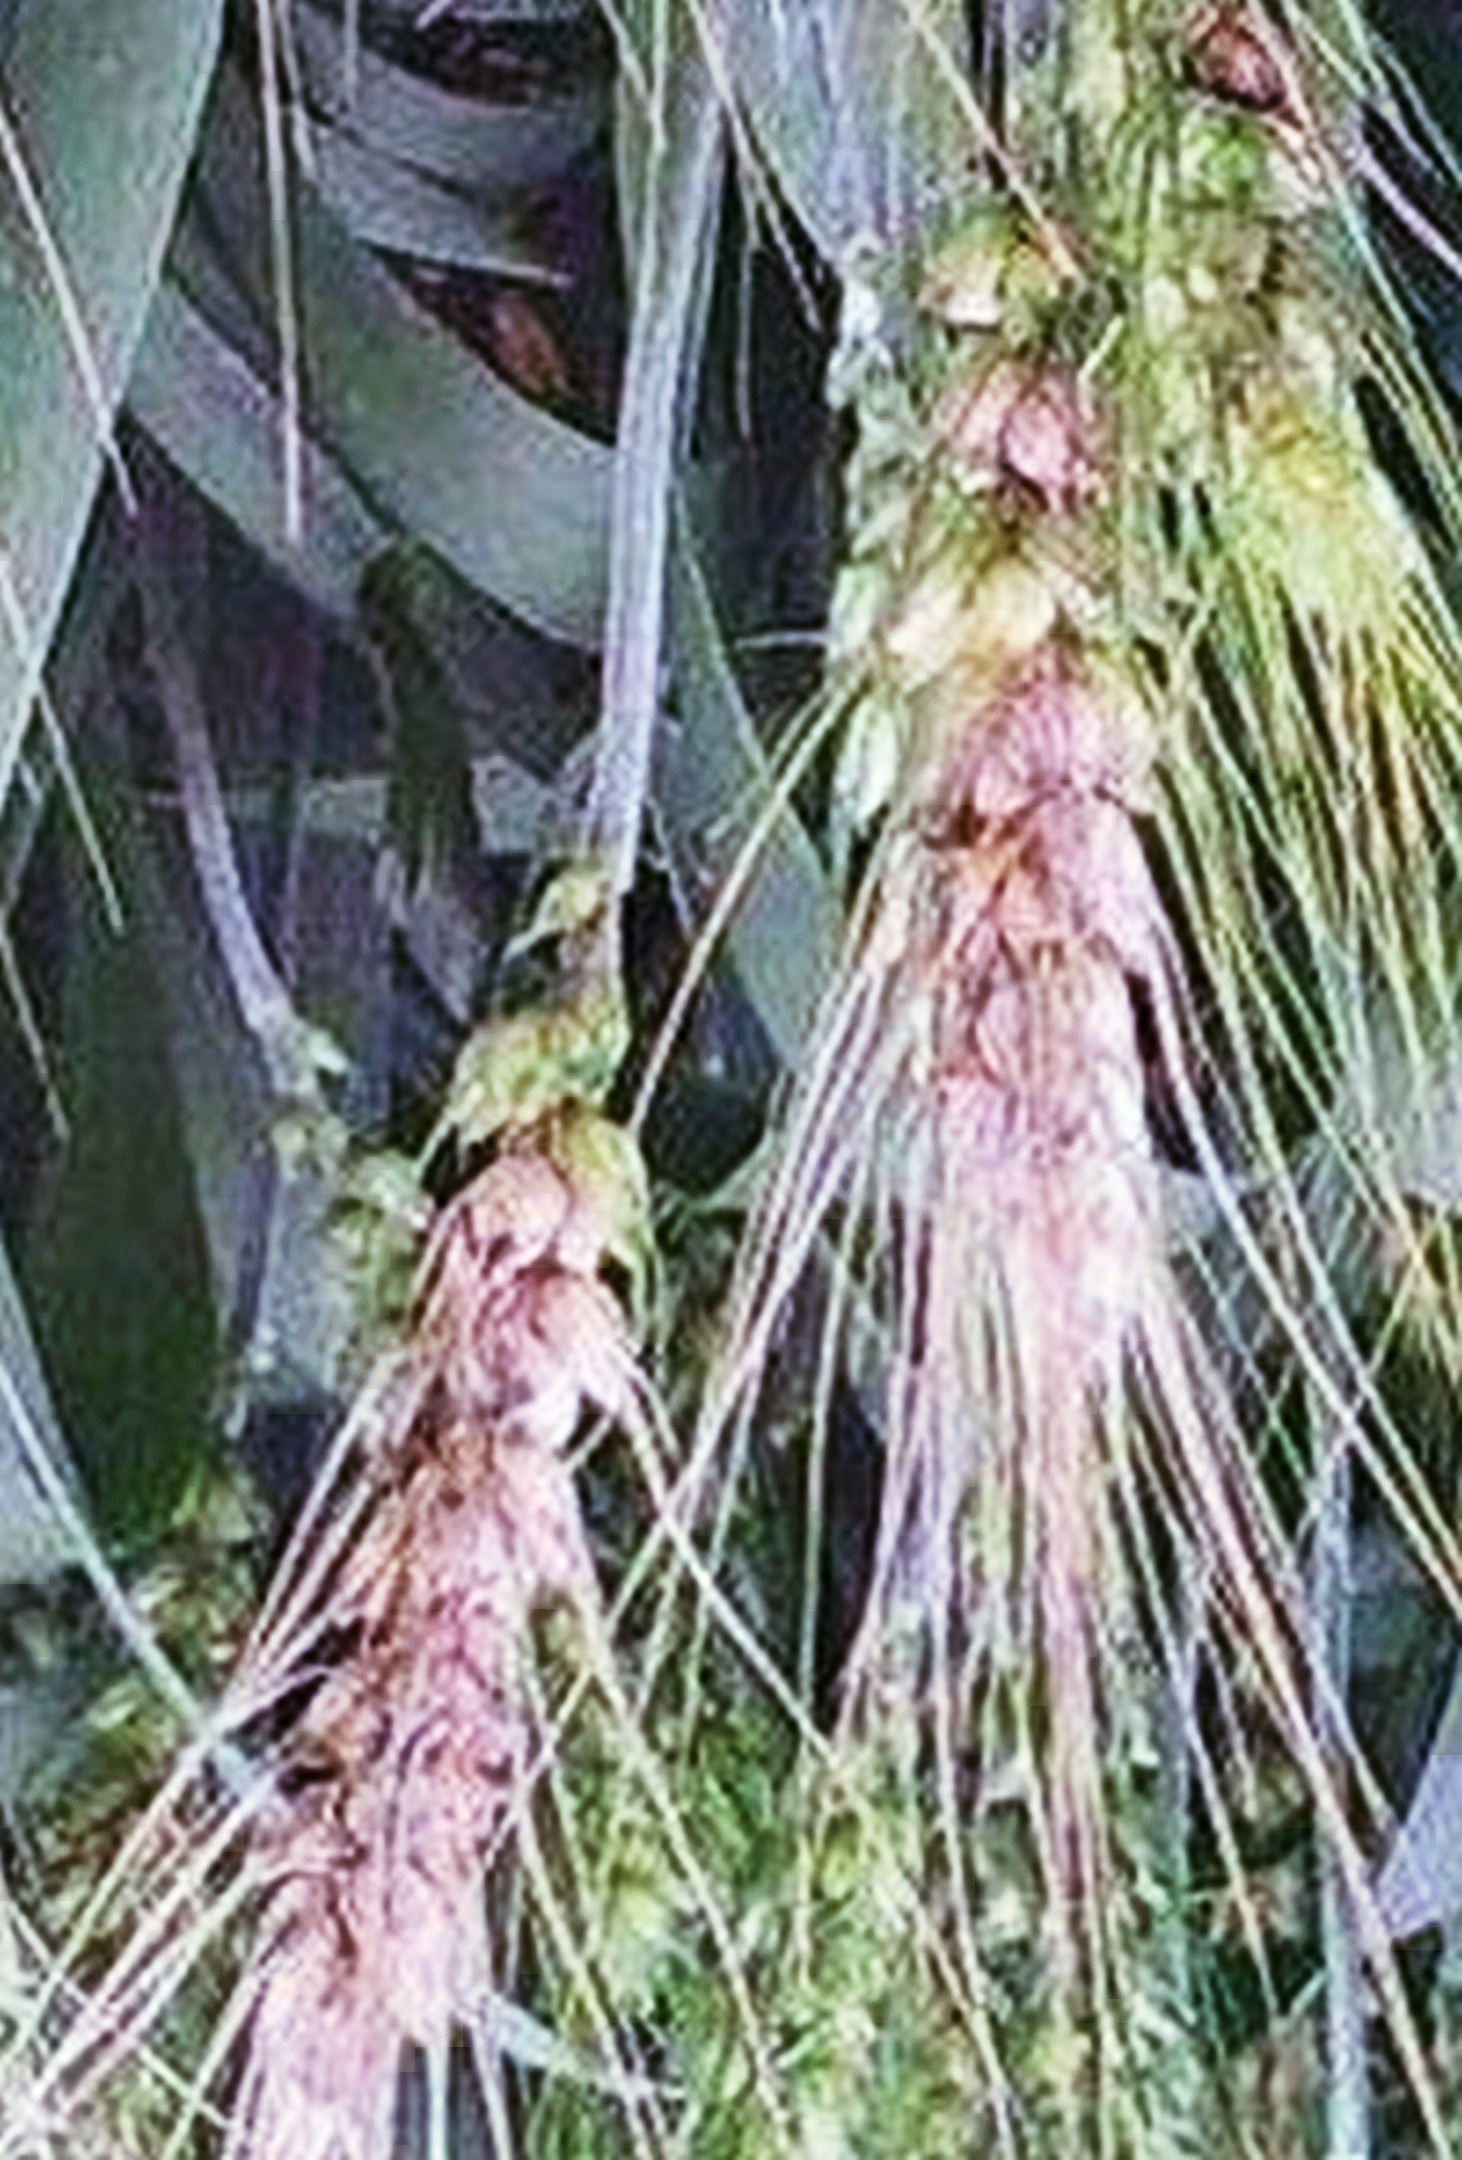Wheat scab: (276, 874, 690, 2047)
